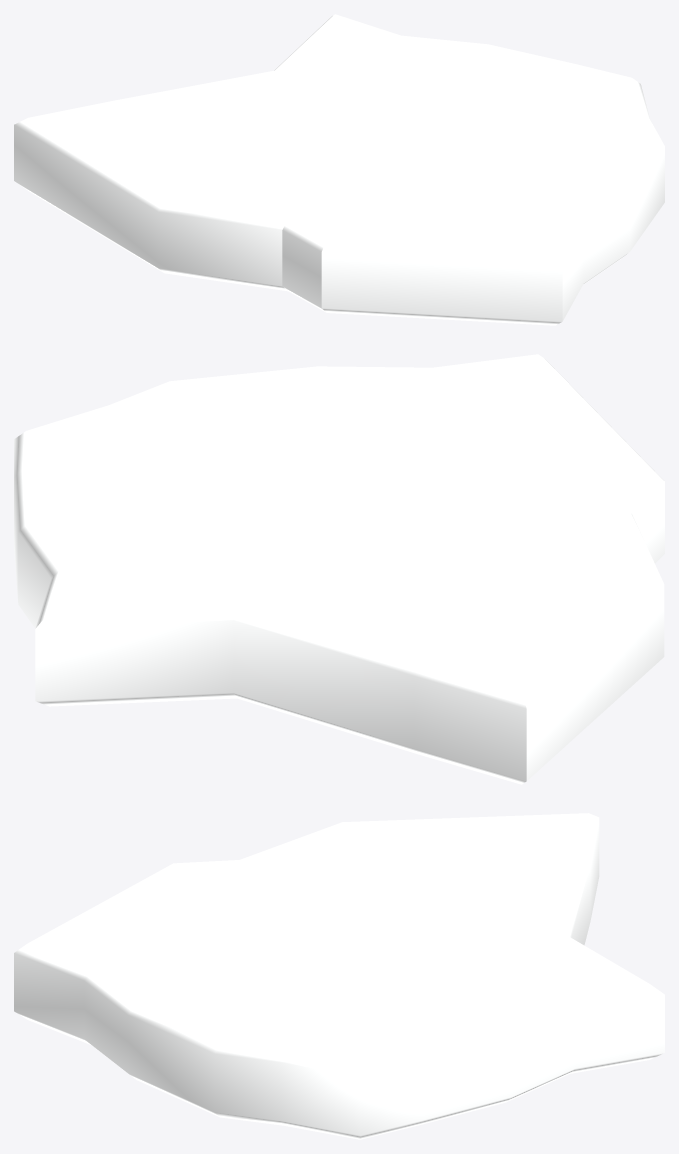
File: ice_floe_medium_003.glb
3 renders of one model, top to bottom at view 1: azimuth 30°, elevation 25°; view 2: azimuth 150°, elevation 25°; view 3: azimuth 270°, elevation 25°, orthographic. The views are drawn at different scales.
Visible parts, largest first — view 1: ice_floe_medium_003; view 2: ice_floe_medium_003; view 3: ice_floe_medium_003.
Part boxes in pixels (x1=…): ice_floe_medium_003: x1=14, y1=14, x2=664, y2=325; ice_floe_medium_003: x1=14, y1=354, x2=664, y2=784; ice_floe_medium_003: x1=14, y1=813, x2=664, y2=1139.
Bounding box in the file's own units: 6.55 × 0.8944 × 6.93.
1 material, 1 textured.
